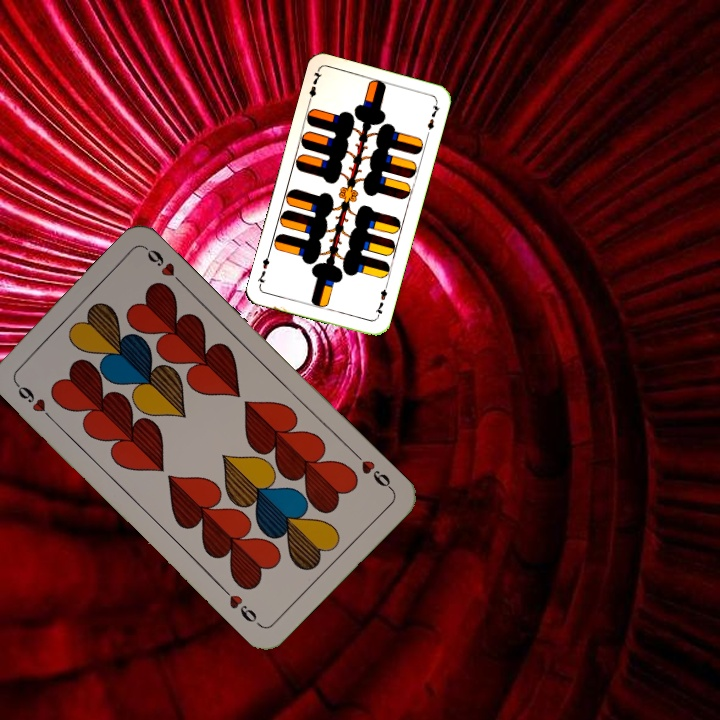E7: (304, 67, 325, 107), (371, 281, 390, 321)
H9: (349, 447, 396, 493), (11, 378, 57, 424)
